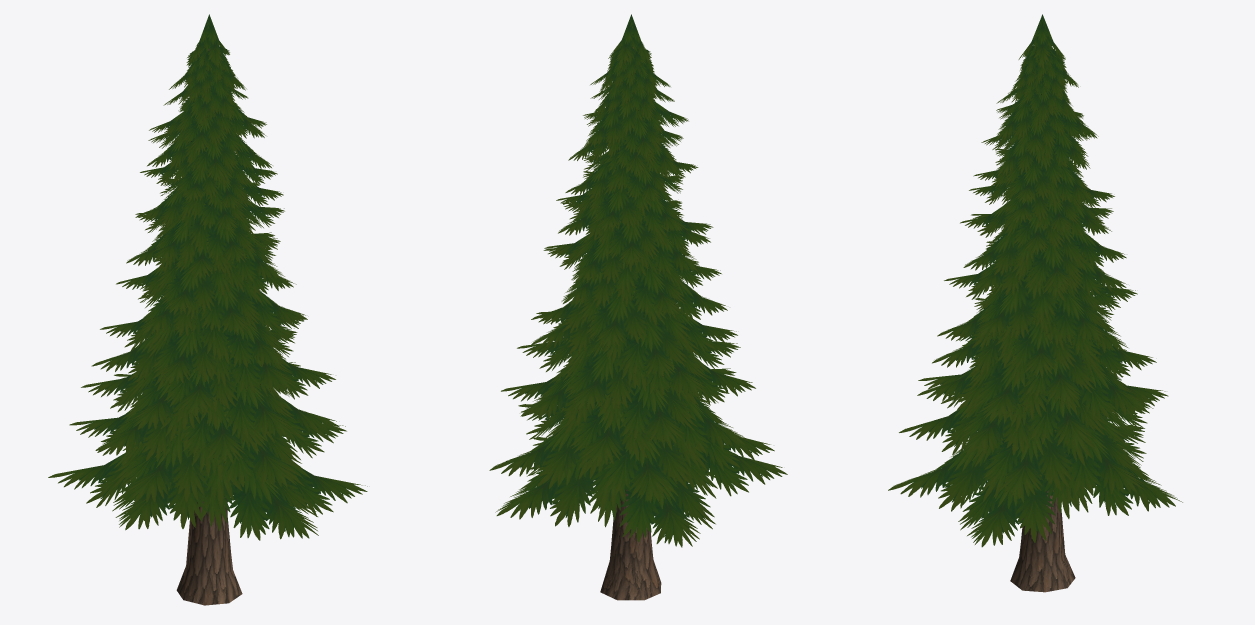
File: Spruce02.fbx
3 renders of one model, left to right at view 1: azimuth 30°, elevation 25°; view 2: azimuth 150°, elevation 25°; view 3: azimuth 270°, elevation 25°, orthographic. The views are drawn at different scales.
Parts seen in each view (by area): view 1: Spruce02_LOD0; view 2: Spruce02_LOD0; view 3: Spruce02_LOD0.
Part boxes in pixels (x1,y1,x2,y2): Spruce02_LOD0: [48, 14, 367, 605]; Spruce02_LOD0: [489, 14, 787, 600]; Spruce02_LOD0: [888, 14, 1182, 592].
Size of what is drawn, in the model's own units: 5.21 by 8.17 by 5.13.
